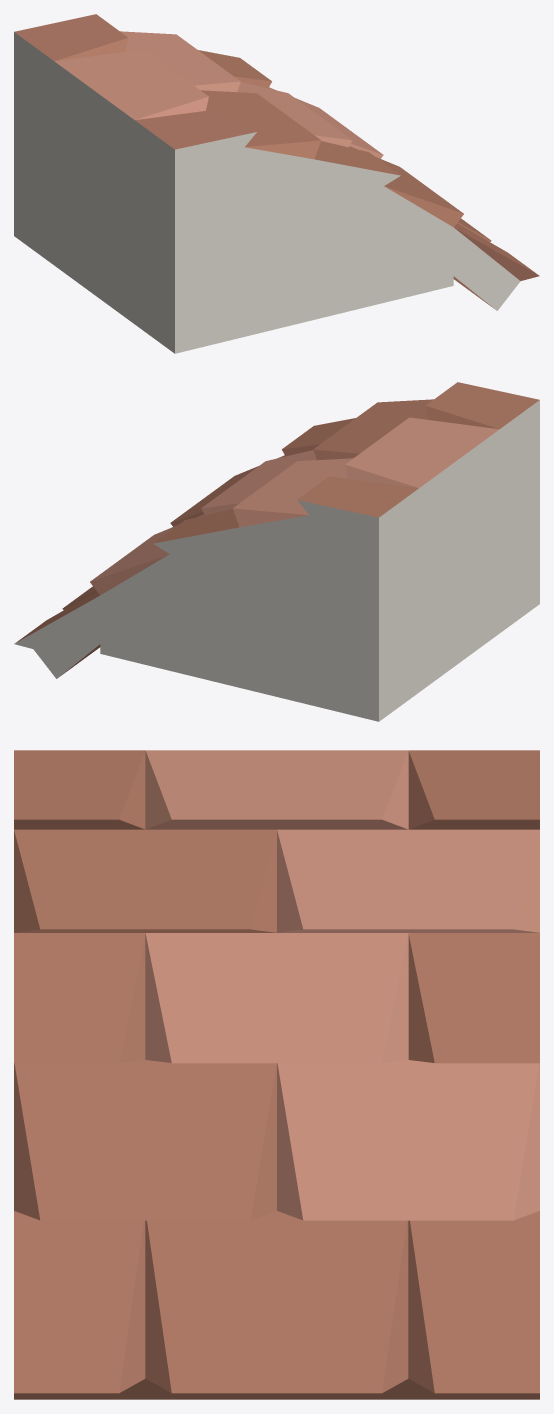
Rendered from Roof_Convex_Side_Eave.glb.
The picture shows the model from 3 angles, top to bottom: view 1: azimuth 30°, elevation 25°; view 2: azimuth 150°, elevation 25°; view 3: azimuth 270°, elevation 25°; orthographic projection. The views are drawn at different scales.
Parts seen in each view (by area): view 1: object1; view 2: object1; view 3: object1.
Part boxes in pixels (x1,y1,x2,y2): object1: (14, 14, 539, 353); object1: (14, 382, 539, 721); object1: (14, 750, 539, 1399).
Bounding box in the file's own units: 1.31 × 0.8233 × 1.
